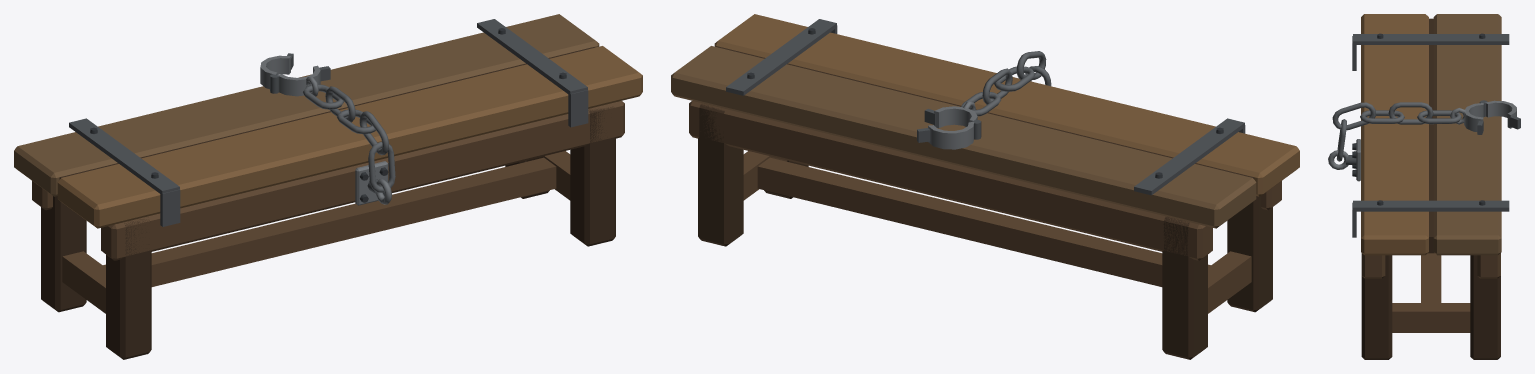
File: SM_LPD_Prison_CellFurnitureBench_01.fbx
3 renders of one model, left to right at view 1: azimuth 30°, elevation 25°; view 2: azimuth 150°, elevation 25°; view 3: azimuth 270°, elevation 25°, orthographic. The views are drawn at different scales.
Parts seen in each view (by area): view 1: SM_LPD_Prison_CellFurnitureBench_01; view 2: SM_LPD_Prison_CellFurnitureBench_01; view 3: SM_LPD_Prison_CellFurnitureBench_01.
Boxes of the visible parts, bbox=[...] form: SM_LPD_Prison_CellFurnitureBench_01: bbox=[14, 14, 642, 359]; SM_LPD_Prison_CellFurnitureBench_01: bbox=[671, 14, 1299, 359]; SM_LPD_Prison_CellFurnitureBench_01: bbox=[1328, 14, 1520, 359].
Bounding box in the file's own units: 1.56 × 0.5127 × 0.5675.
